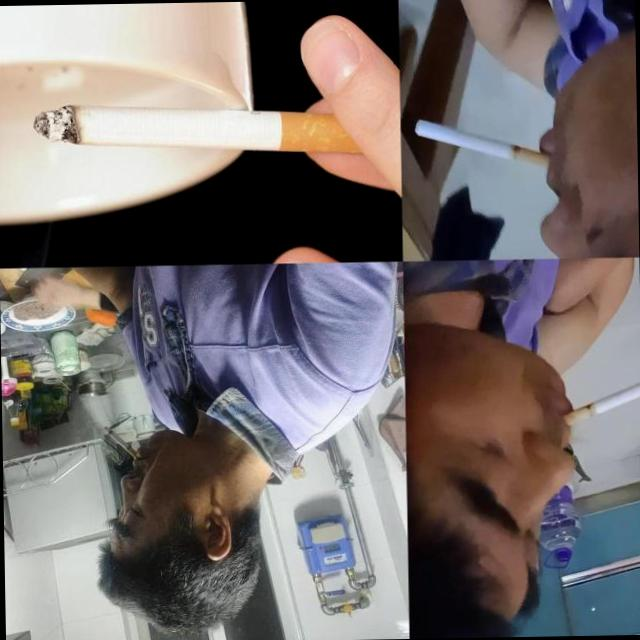smoke: (32, 93, 366, 161), (412, 116, 552, 170), (561, 366, 640, 423), (105, 428, 138, 461)
